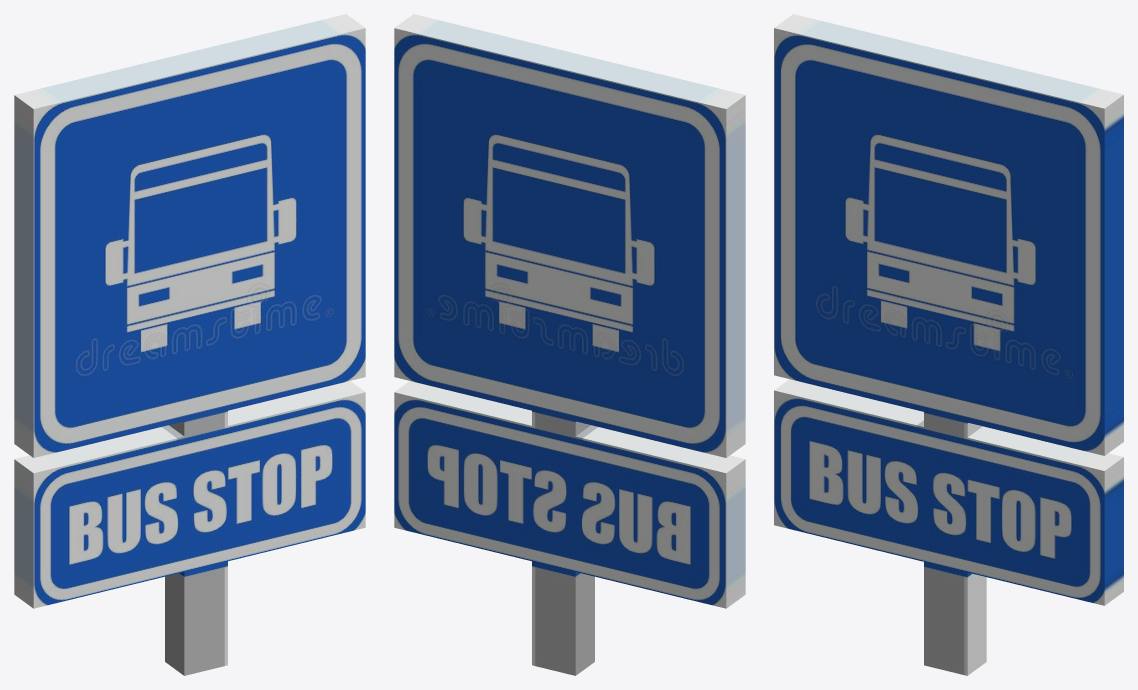
The picture shows the model from 3 angles, left to right: view 1: azimuth 30°, elevation 25°; view 2: azimuth 150°, elevation 25°; view 3: azimuth 330°, elevation 25°; orthographic projection.
Visible parts, largest first — view 1: road-sign-bus-stop-color-icon-flat-road-sign-bus-stop-color-; view 2: road-sign-bus-stop-color-icon-flat-road-sign-bus-stop-color-; view 3: road-sign-bus-stop-color-icon-flat-road-sign-bus-stop-color-.
Boxes of the visible parts, bbox=[...] form: road-sign-bus-stop-color-icon-flat-road-sign-bus-stop-color-: bbox=[14, 14, 365, 675]; road-sign-bus-stop-color-icon-flat-road-sign-bus-stop-color-: bbox=[394, 14, 745, 675]; road-sign-bus-stop-color-icon-flat-road-sign-bus-stop-color-: bbox=[774, 14, 1123, 675].
Bounding box in the file's own units: 49.54 × 86.03 × 5.
